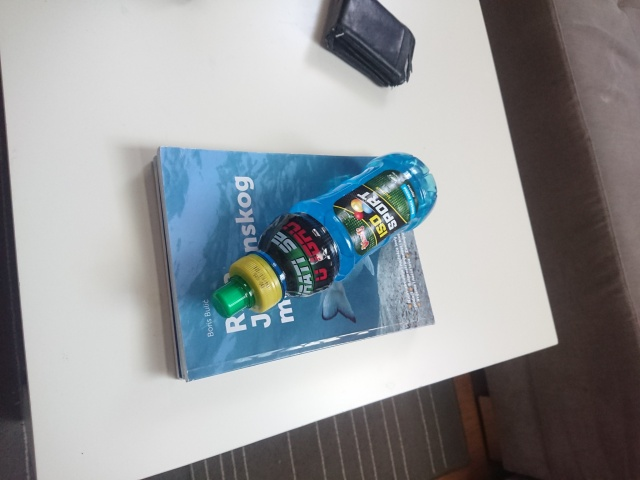Vindi Iso Sport Forest Strawberries 500mL: (209, 150, 440, 319)
